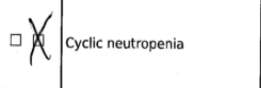checked: (24, 9, 57, 75)
